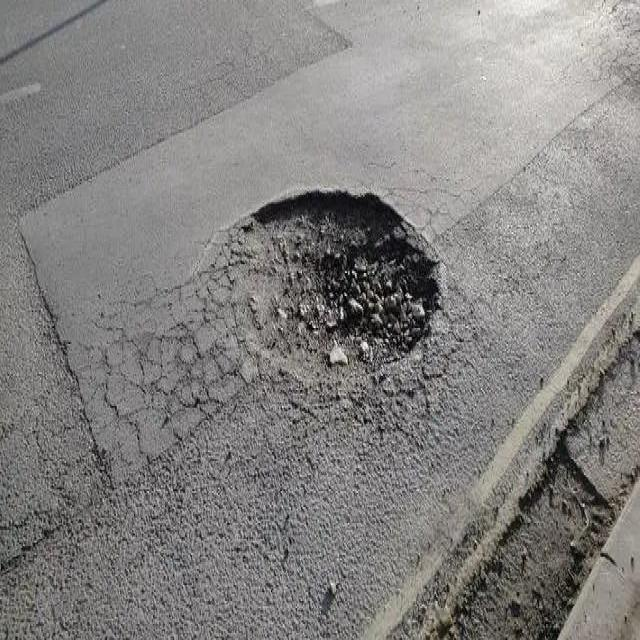pothole: (221, 186, 447, 376)
